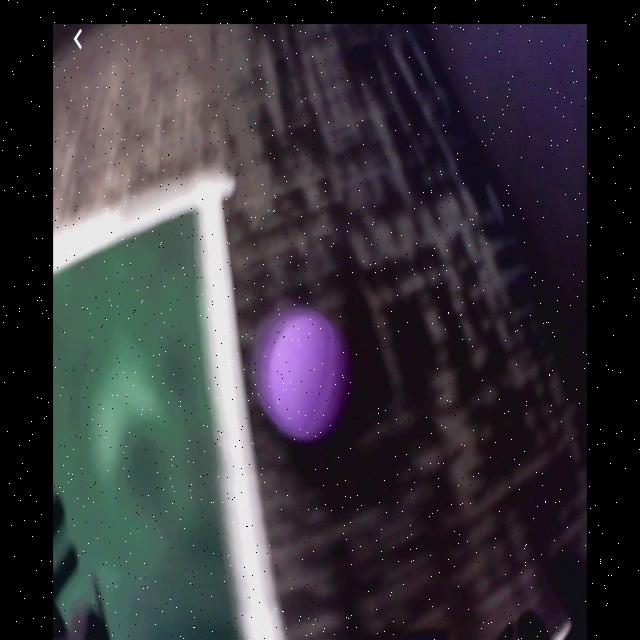ball: (261, 310, 351, 447)
